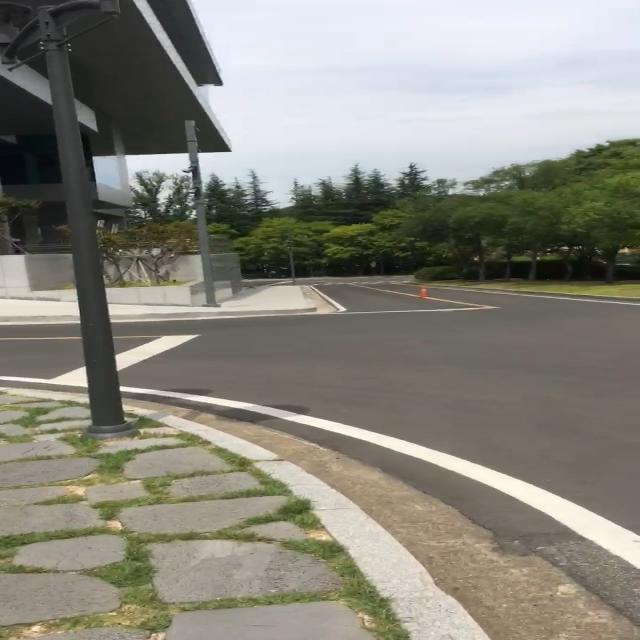obstacle: (35, 5, 128, 433)
road: (109, 292, 640, 640), (0, 324, 88, 402)
sidewalk: (0, 388, 492, 640)
